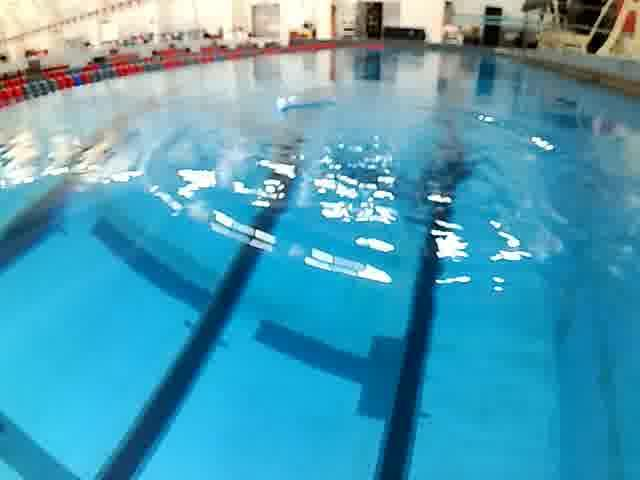Bottle: (268, 88, 341, 118)
